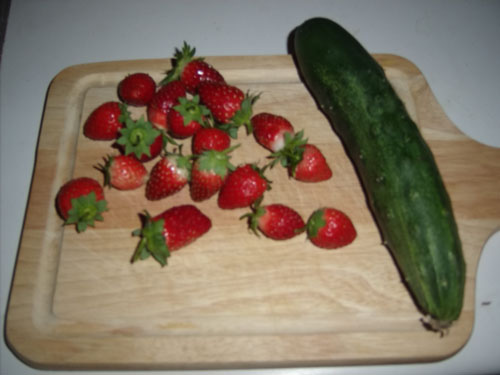cucumber: (293, 17, 466, 336)
